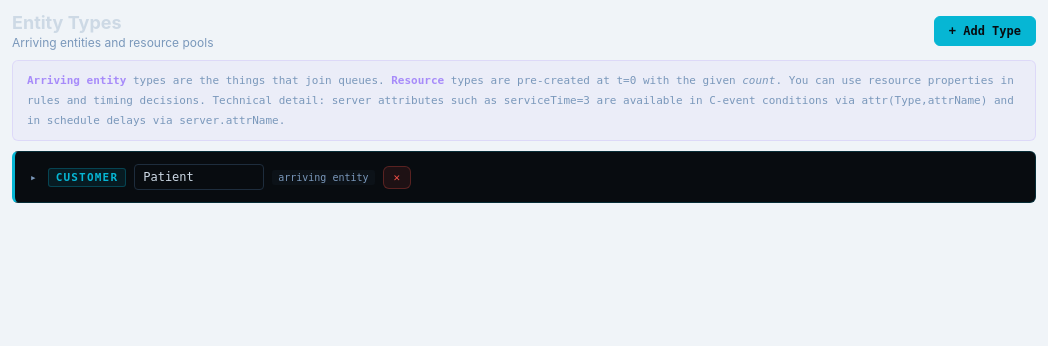
it: EntityTypeEditor — required sequence (Phase 2, 2c) › renders the Required Sequence panel for a customer type without throwing
This screenshot has width=1048, height=346.
Click the button named "Expand": (33, 177) [27,170,40,185]
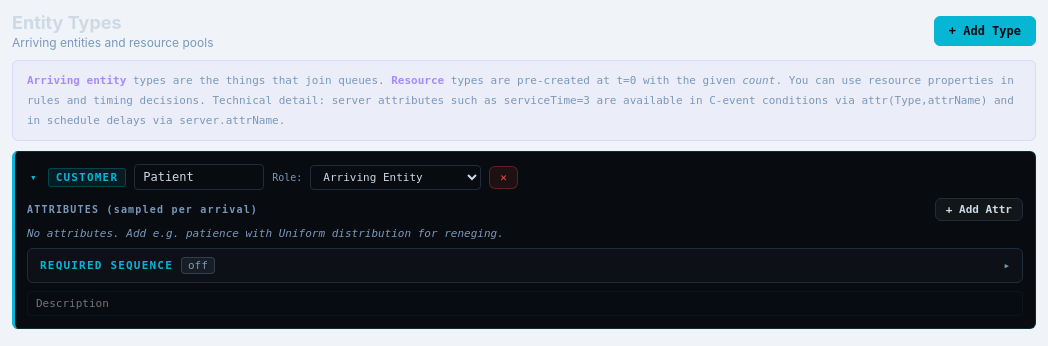
Result: the text "Required Sequence" is shown at [40,259,173,272]
